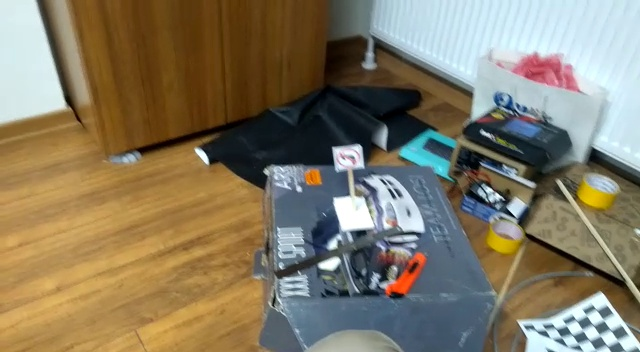sola_donulmez: (334, 146, 359, 168)
